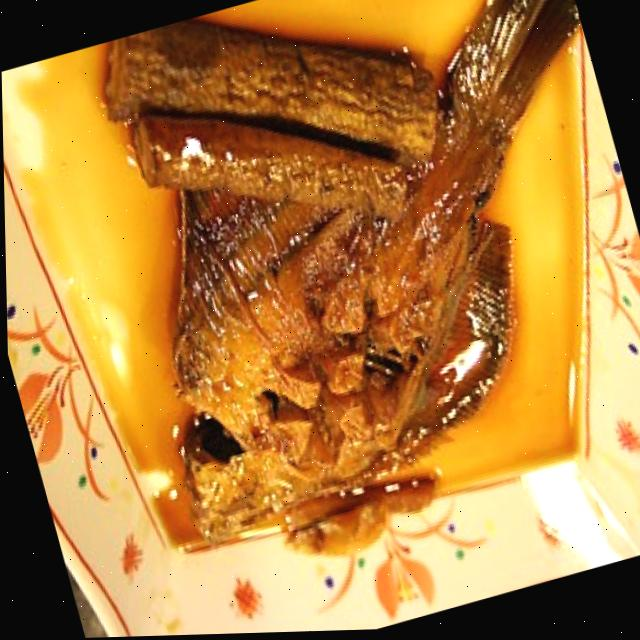熟制海鲜: (34, 0, 640, 639)
